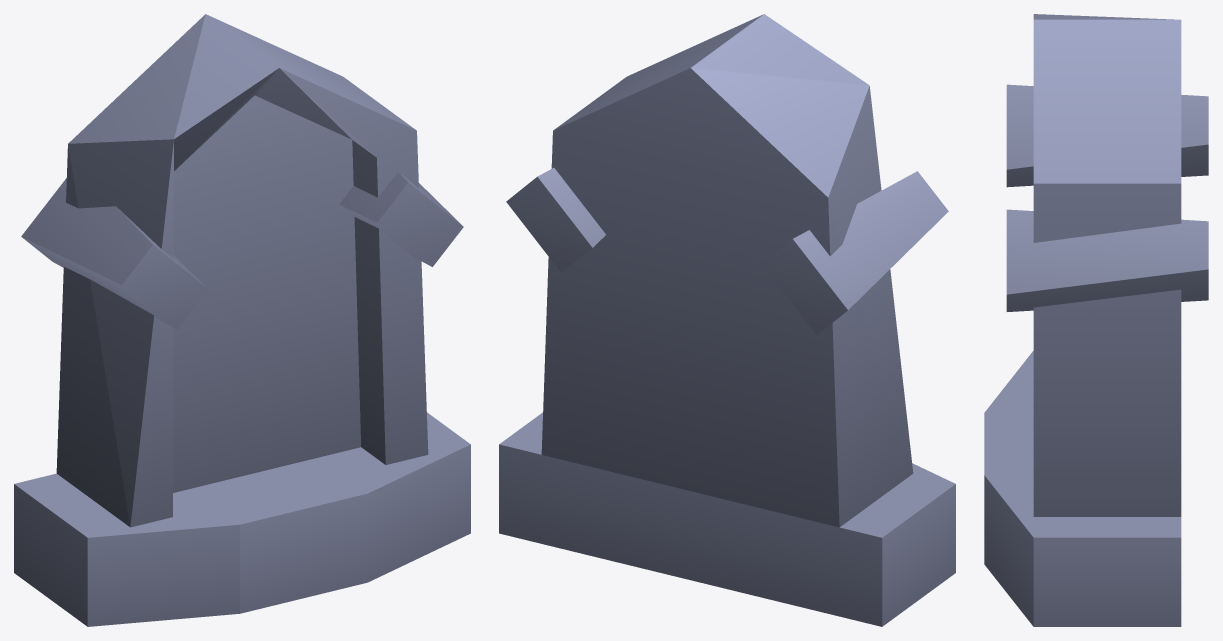
File: K_gravestone-round_lod.glb
3 views of the same model, side by side, from view 1: azimuth 30°, elevation 25°; view 2: azimuth 150°, elevation 25°; view 3: azimuth 270°, elevation 25° (orthographic).
Visible parts, largest first — view 1: gravestone-round; view 2: gravestone-round; view 3: gravestone-round.
Part boxes in pixels (x1,y1,x2,y2): gravestone-round: (14,14,470,626); gravestone-round: (499,14,955,626); gravestone-round: (984,14,1208,626).
Bounding box in the file's own units: 0.45 × 0.575 × 0.2275.
